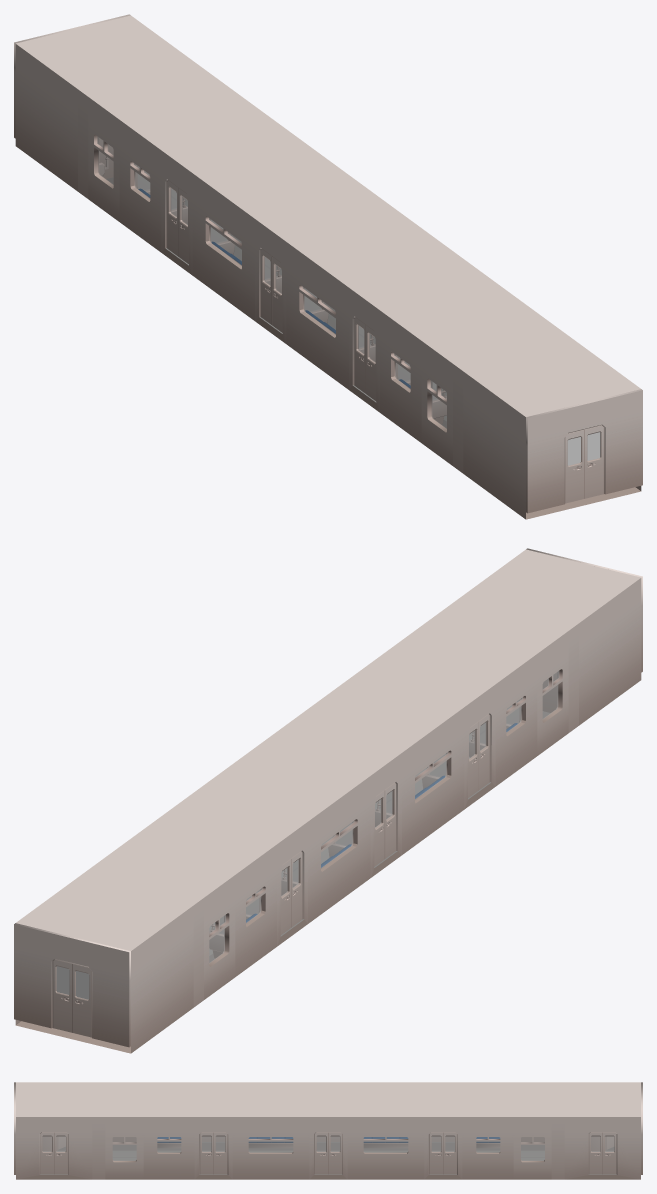
Rendered from TrainLoop 3.fbx.
The picture shows the model from 3 angles, top to bottom: view 1: azimuth 30°, elevation 25°; view 2: azimuth 150°, elevation 25°; view 3: azimuth 270°, elevation 25°; orthographic projection. The views are drawn at different scales.
Parts seen in each view (by area): view 1: Wall_Door_Outside.004, Wall_Door_Outside.003, Wall_Large_Window_Outside.001, Wall_Large_Window_Outside, Wall_Small_Window_Outside.001, Wall_Small_Window_Outside, WallDoor.003, Wall_Tall_Window_Outside.001, Wall_Tall_Window_Outside, Wall_Door_Outside.001, Wall_Door_Outside, Wall_Door_Outside.002 (+11 smaller); view 2: Wall_Door_Outside.003, Wall_Door_Outside.004, Wall_Large_Window_Outside, Wall_Large_Window_Outside.001, Wall_Small_Window_Outside, Wall_Small_Window_Outside.001, WallDoor.002, Wall_Tall_Window_Outside, Wall_Tall_Window_Outside.001, Wall_Door_Outside.001, Wall_Door_Outside.002, Wall_Door_Outside (+11 smaller); view 3: Wall_Large_Window_Outside, Wall_Large_Window_Outside.001, Wall_Door_Outside.003, Wall_Door_Outside.004, Wall_Small_Window_Outside.001, Wall_Small_Window_Outside, Wall_Tall_Window_Outside, Wall_Tall_Window_Outside.001, Wall_Door_Outside, Wall_Door_Outside.001, Wall_Door_Outside.002, Small_Wall_Outside (+27 smaller).
Boxes of the visible parts, x1,y1,x2,y2 form: Wall_Door_Outside.004: (463,343,641,519); Wall_Door_Outside.003: (15,15,192,191); Wall_Large_Window_Outside.001: (192,145,370,320); Wall_Large_Window_Outside: (286,213,463,389); Wall_Small_Window_Outside.001: (119,92,276,252); Wall_Small_Window_Outside: (380,282,536,442); WallDoor.003: (526,389,642,513); Wall_Tall_Window_Outside.001: (88,69,234,221); Wall_Tall_Window_Outside: (421,313,567,465); Wall_Door_Outside.001: (255,191,401,343); Wall_Door_Outside: (161,122,307,275); Wall_Door_Outside.002: (349,259,494,412); Wall_Door_Outside.003: (15,877,193,1053); Wall_Door_Outside.004: (464,549,641,725); Wall_Large_Window_Outside: (286,679,464,854); Wall_Large_Window_Outside.001: (193,747,370,923); Wall_Small_Window_Outside: (380,626,537,786); Wall_Small_Window_Outside.001: (120,816,276,976); WallDoor.002: (14,923,130,1047); Wall_Tall_Window_Outside: (422,603,568,755); Wall_Tall_Window_Outside.001: (89,847,235,999); Wall_Door_Outside.001: (255,725,401,877); Wall_Door_Outside.002: (349,656,495,809); Wall_Door_Outside: (162,793,307,946); Wall_Large_Window_Outside: (232,1082,309,1179); Wall_Large_Window_Outside.001: (347,1082,424,1179); Wall_Door_Outside.003: (564,1082,640,1179); Wall_Door_Outside.004: (16,1082,92,1179); Wall_Small_Window_Outside.001: (462,1082,513,1179); Wall_Small_Window_Outside: (143,1082,194,1179); Wall_Tall_Window_Outside: (105,1082,143,1179); Wall_Tall_Window_Outside.001: (513,1082,551,1179); Wall_Door_Outside: (424,1082,462,1179); Wall_Door_Outside.001: (309,1082,347,1179); Wall_Door_Outside.002: (194,1082,232,1179); Small_Wall_Outside: (551,1082,564,1179).
Size of the model in its own units: 6.4 by 49.3 by 5.43.
Materials: 4 (1 with a texture image).
